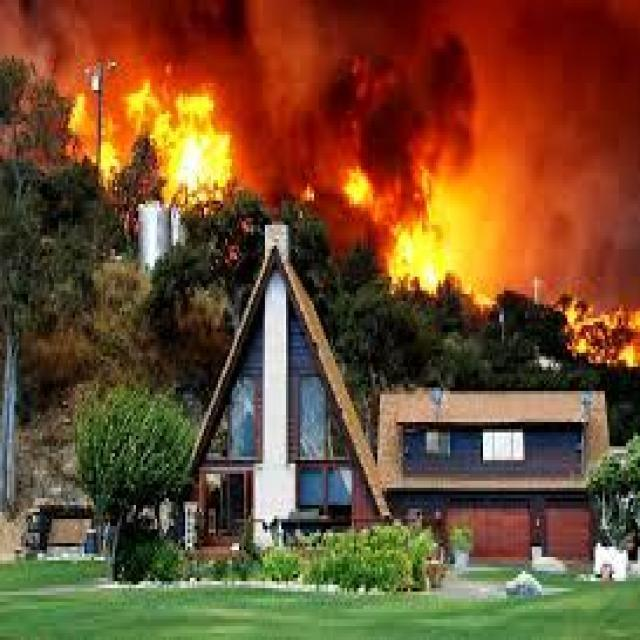Fire: (0, 3, 640, 215), (325, 214, 640, 374)
Smoke: (3, 9, 640, 303)
